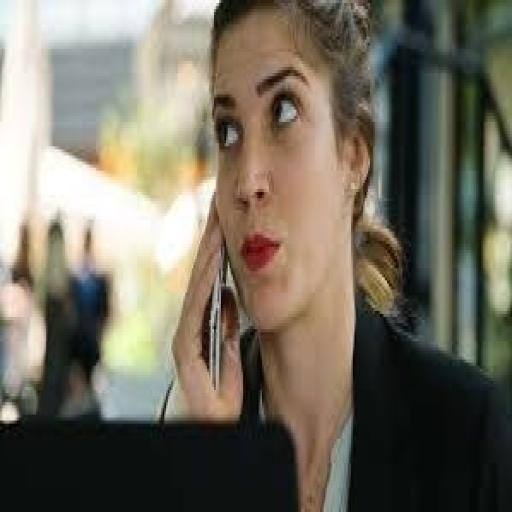calling: (161, 0, 510, 509)
